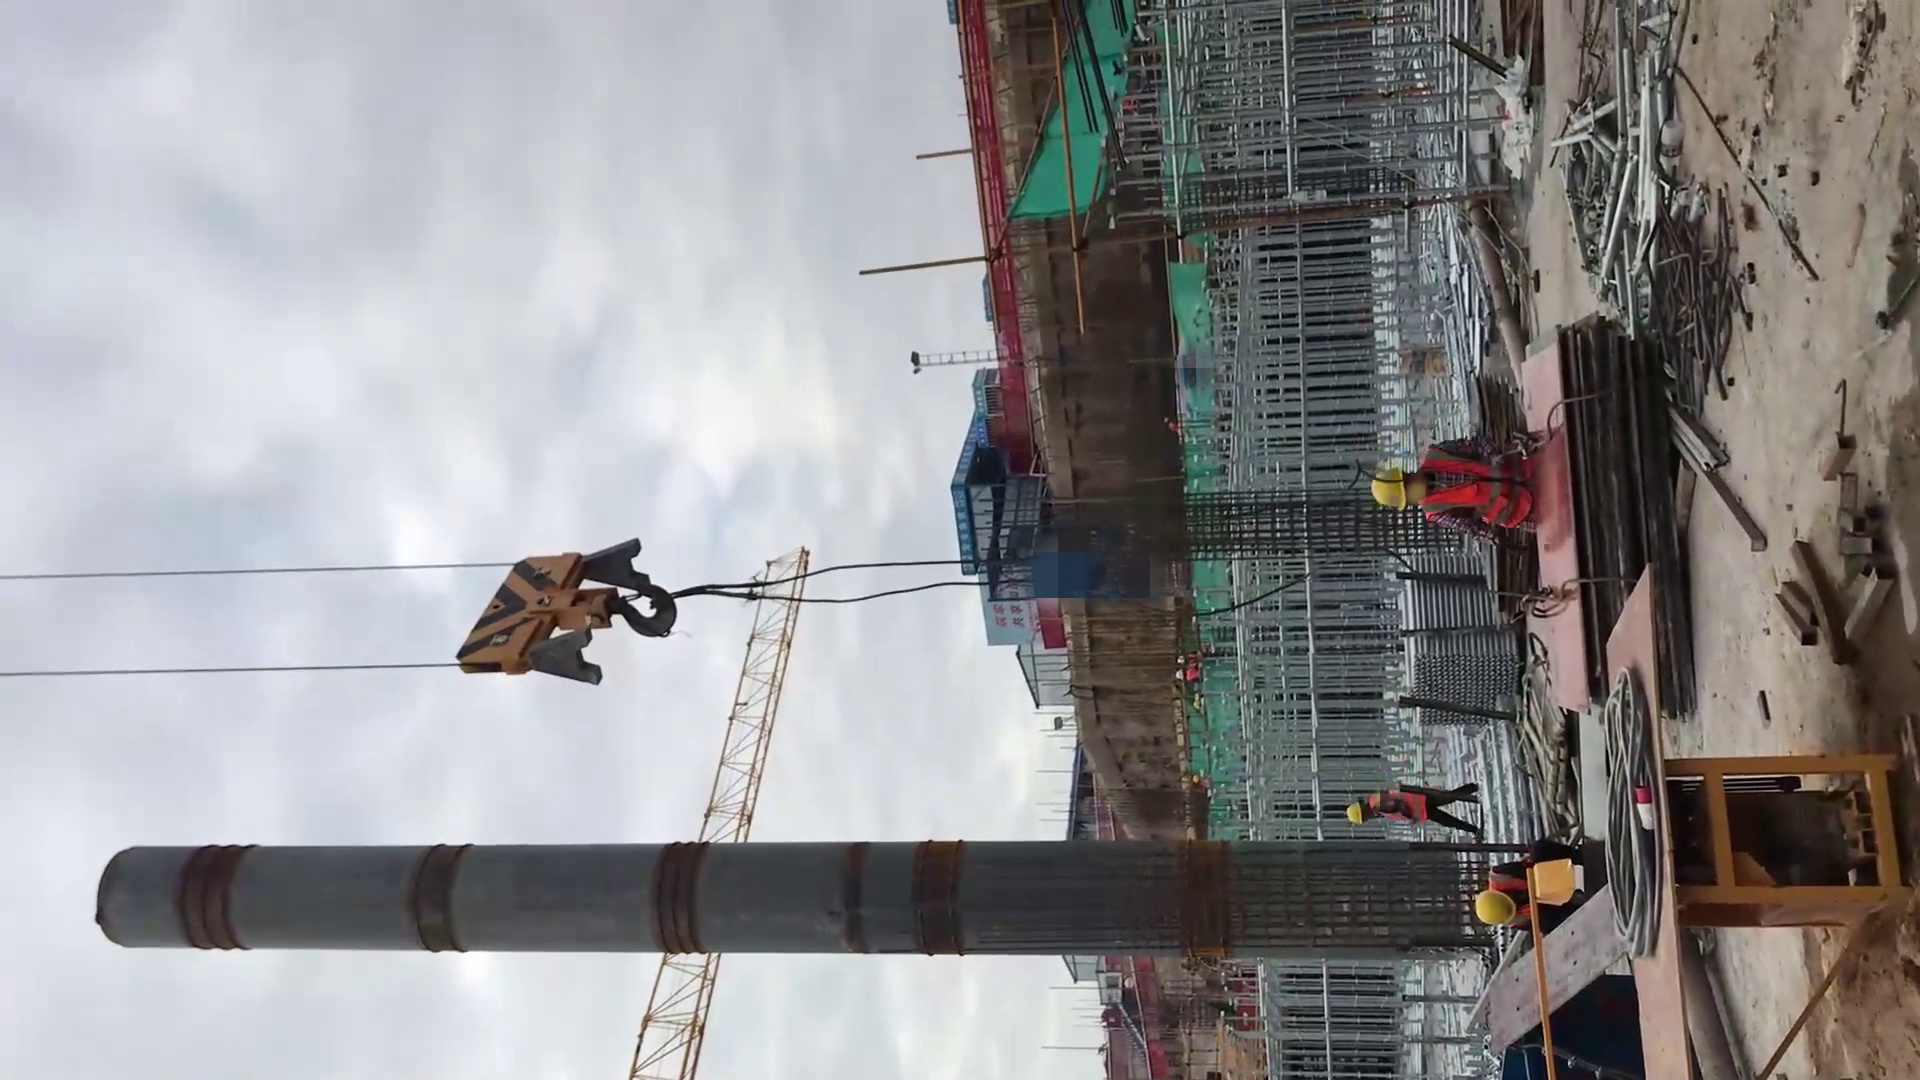board: (1525, 316, 1699, 722)
cutter: (1523, 560, 1908, 1080)
helmet: (1473, 886, 1518, 927), (1369, 465, 1408, 512), (1346, 800, 1364, 827), (1175, 669, 1184, 680), (1177, 655, 1185, 663)
hook: (453, 536, 680, 687)
hopper: (1492, 970, 1645, 1080)
person: (1369, 430, 1532, 558), (1345, 780, 1482, 836), (1473, 863, 1533, 934), (1174, 667, 1199, 682), (1176, 653, 1198, 668)
scaffold: (1399, 553, 1519, 726)
slogan: (953, 367, 991, 575), (978, 576, 1028, 637)
vest: (1418, 443, 1532, 528), (1487, 865, 1534, 929), (1366, 789, 1428, 826), (1186, 669, 1199, 681)
